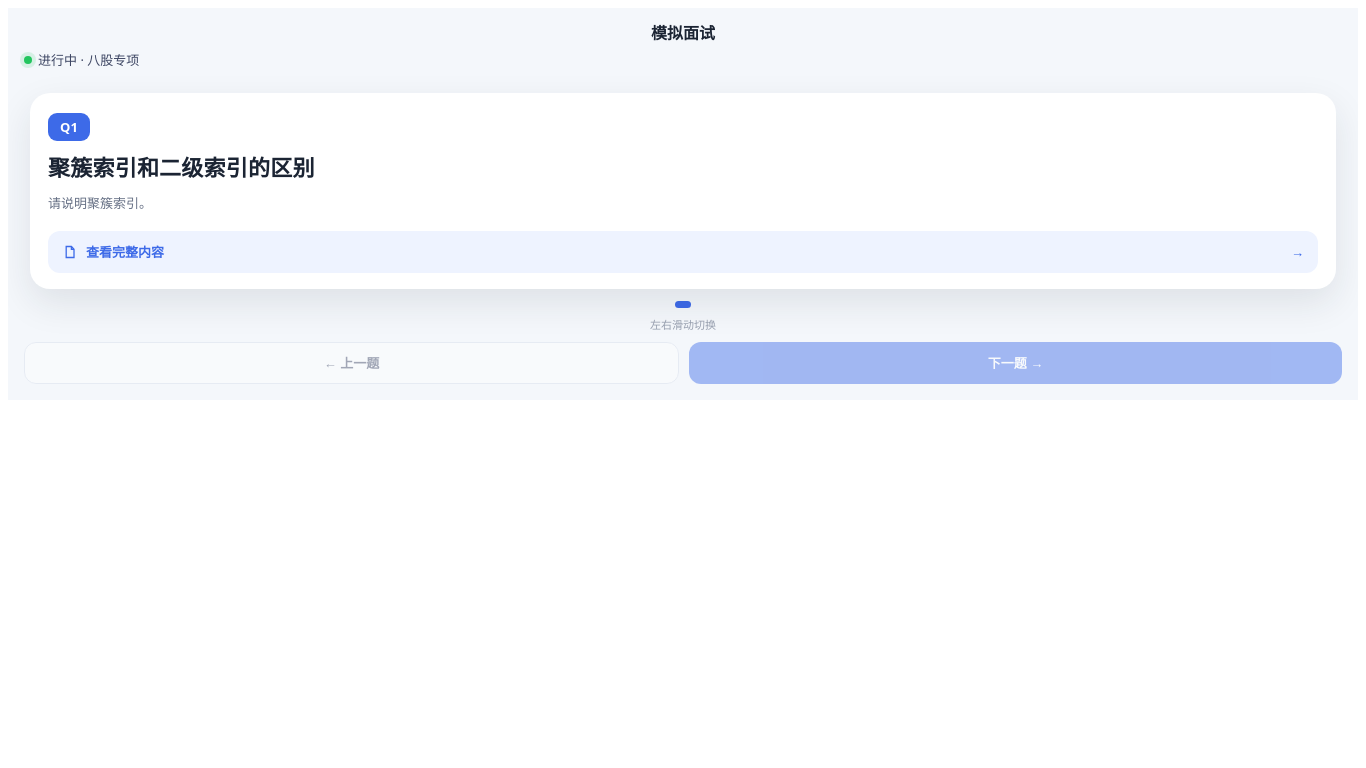
Test: InProgressPanel › opens same-panel detail with stem and key points, then returns to flow
Click the button with test id "open-card-detail": click(125, 252) x1=48 y1=231 x2=1318 y2=273
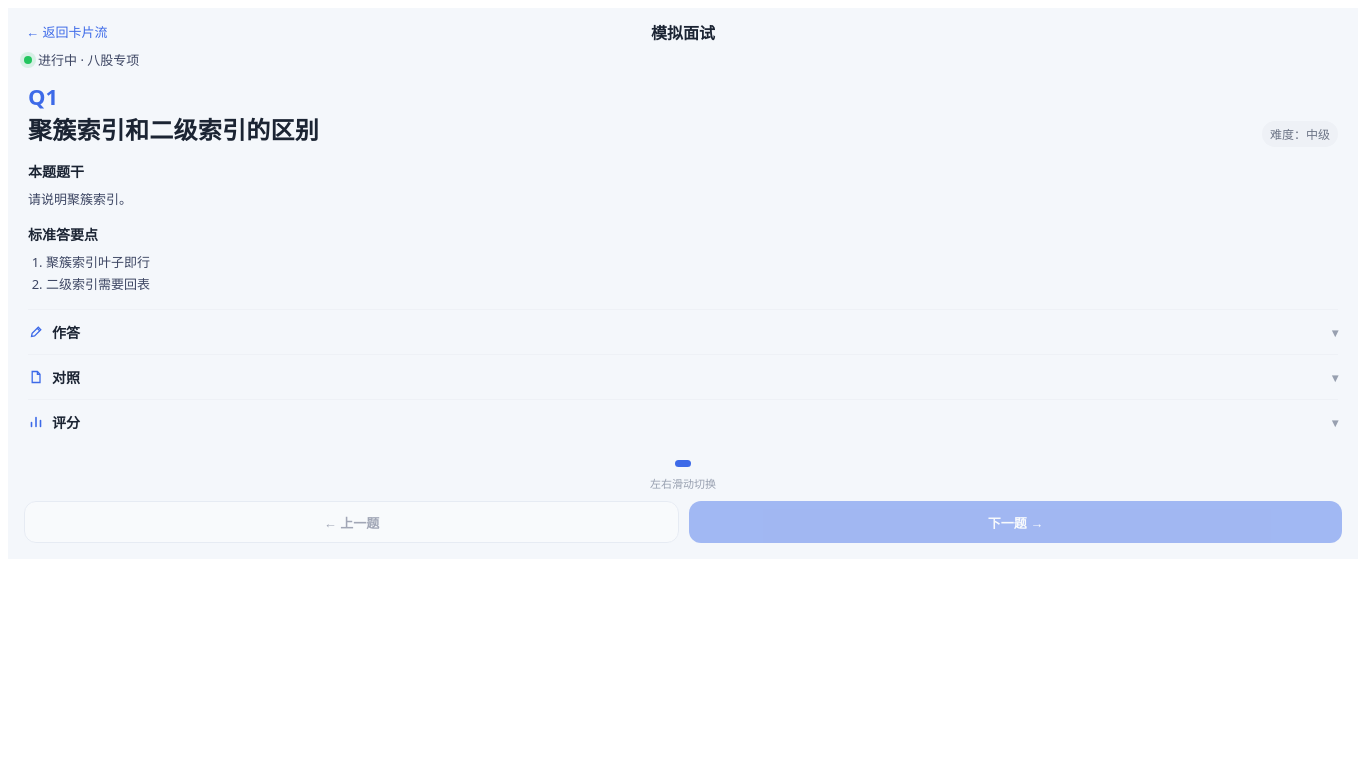
Expected: the element with test id "card-detail" is shown, x1=8 y1=77 x2=1358 y2=452
Expected: the heading "本题题干" is shown, x1=28 y1=162 x2=84 y2=181
Expected: the heading "标准答要点" is shown, x1=28 y1=225 x2=98 y2=244
Click the button with test id "back-to-flow": click(67, 32) x1=24 y1=22 x2=109 y2=42
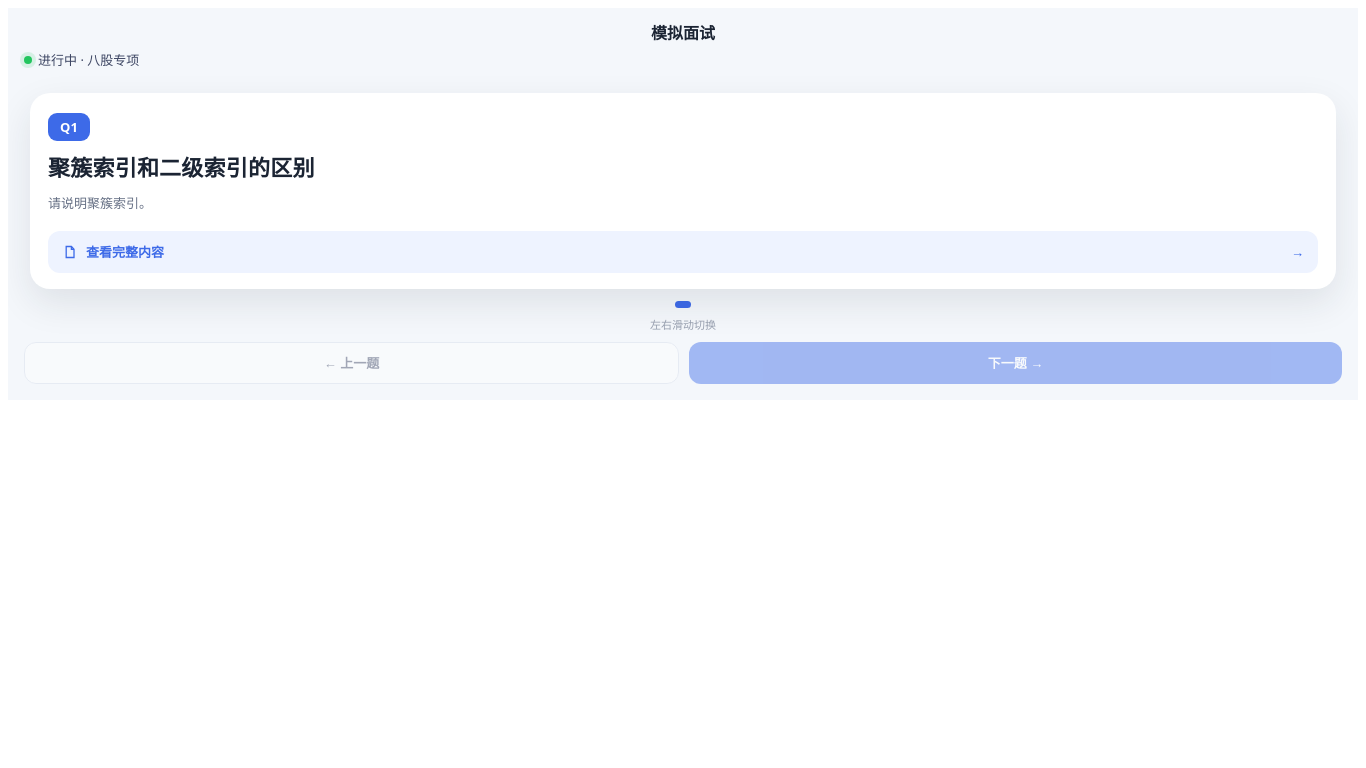
Expected: the text with test id "card-id" reads "Q1", x1=60 y1=118 x2=78 y2=136
Expected: the element with test id "card-flow" is shown, x1=8 y1=77 x2=1358 y2=293
Expected: the heading "标准答要点" is gone
